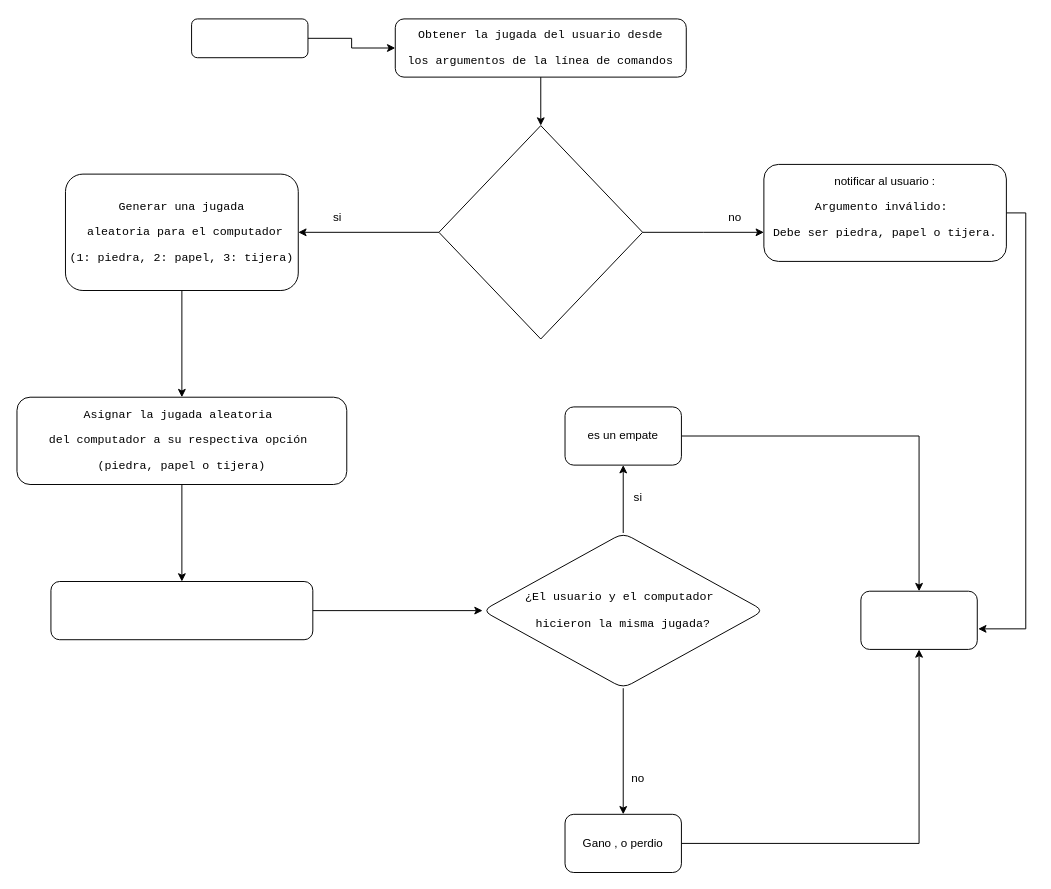
This 1051x889 diagram has some shape labels left out. Here are the shapes that lost their labels. From the top down, the centre of each, then its label:
At point 249,38: "inicio".
At point 540,232: "¿Es la jugada del usuario válida? (piedra, papel o tijera) |".
At point 181,610: "Mostrar la jugada del computador".
At point 918,619: "fin".
